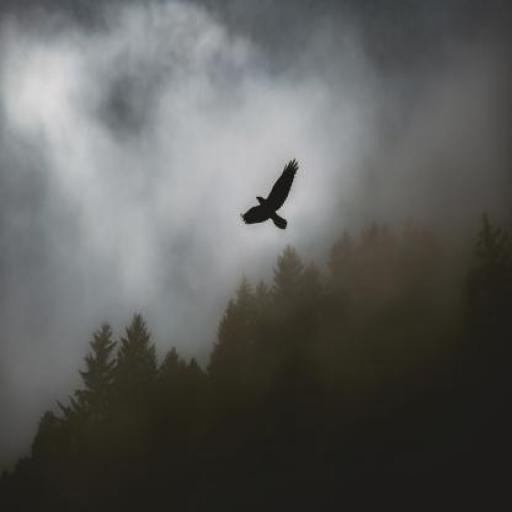bird: (242, 158, 296, 232)
